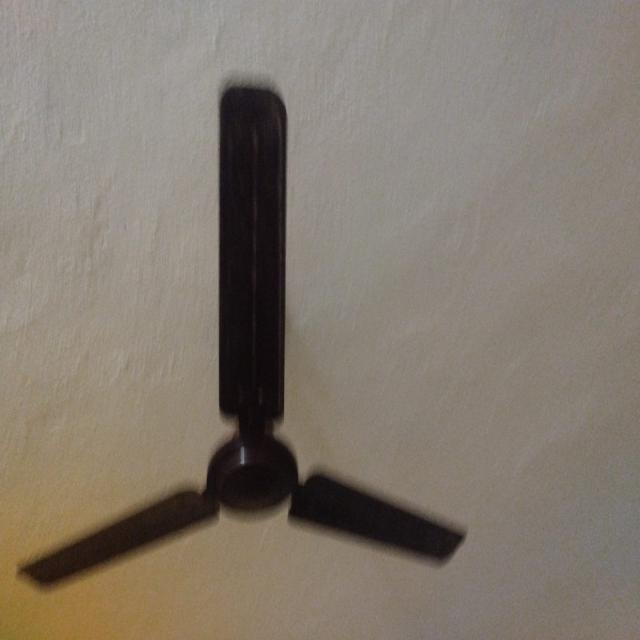fan_off: (18, 83, 466, 586)
